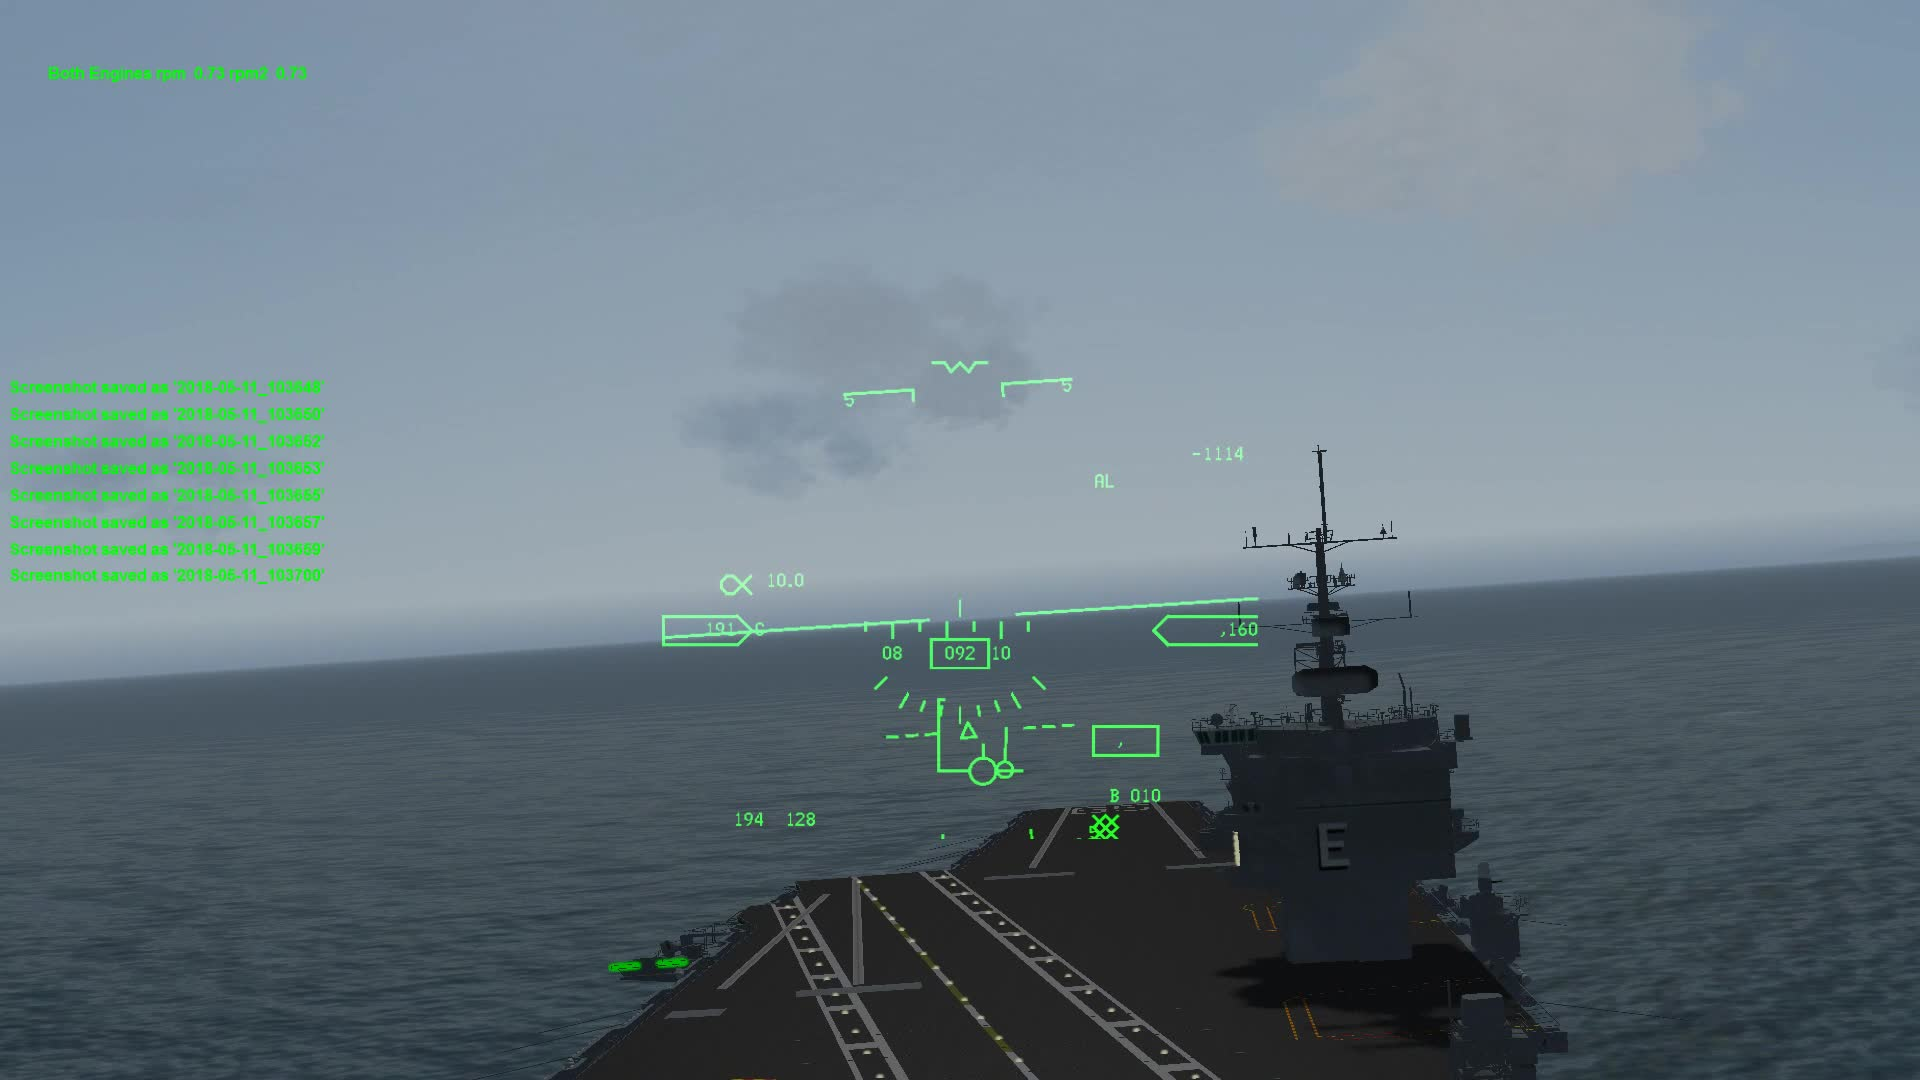speed vector: (947, 744, 1042, 785)
